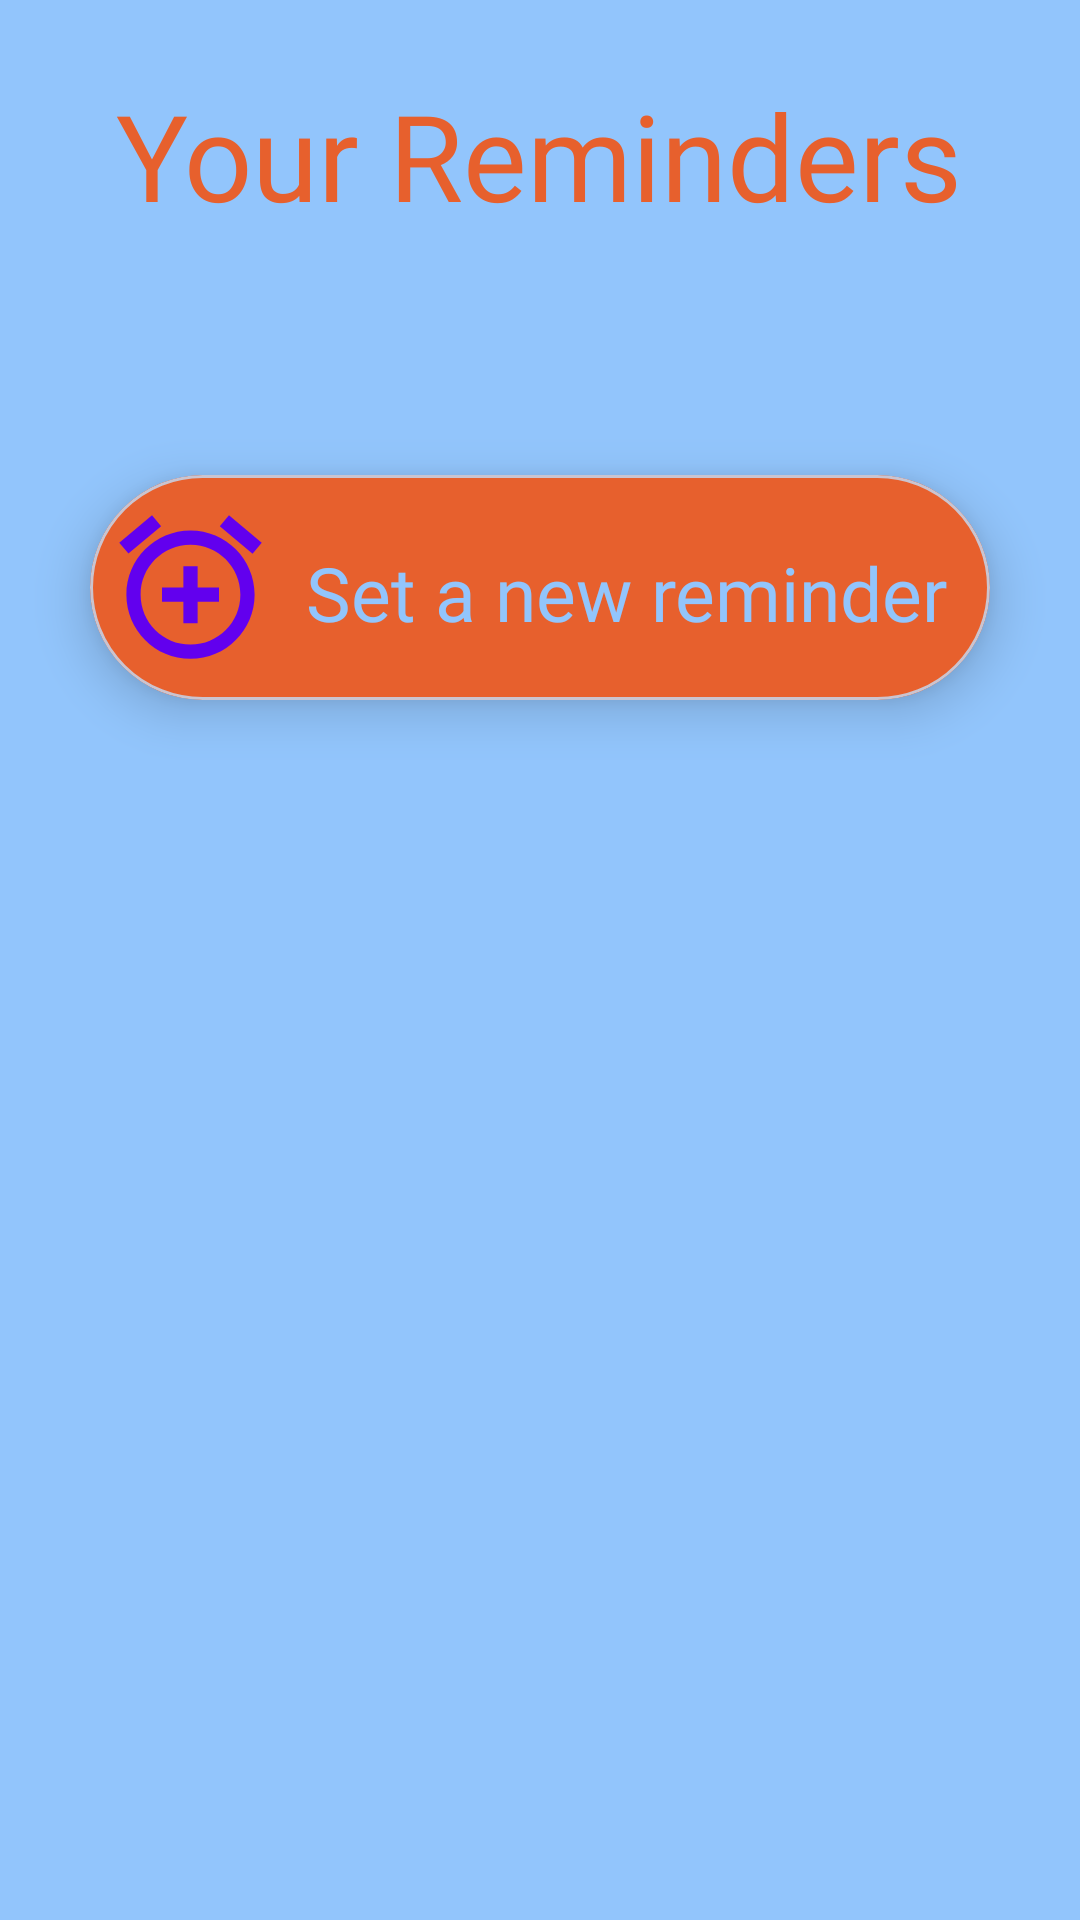

Named icons in this screenshot (1080 × 1920) and their centers, (x=x, y=y):
alarm add: (x=190, y=587)
